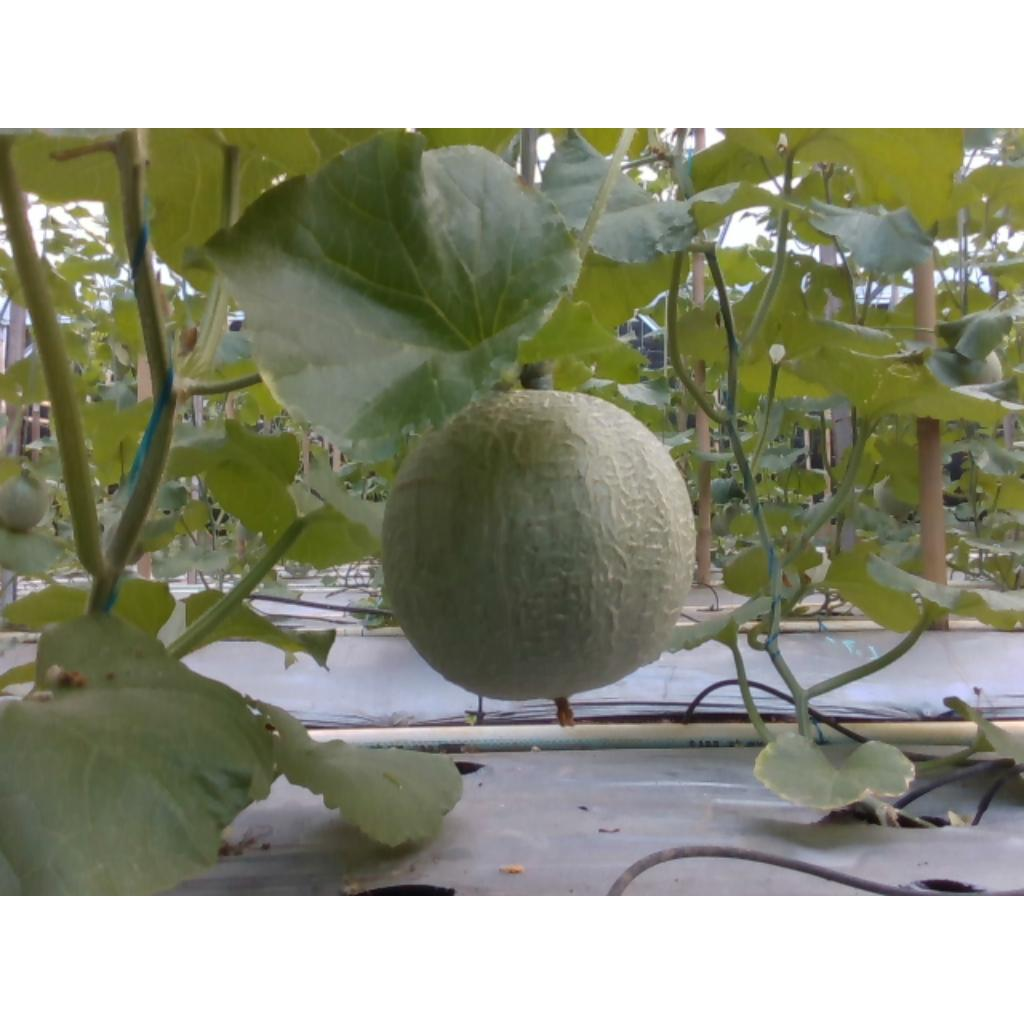melon: (386, 390, 694, 700)
